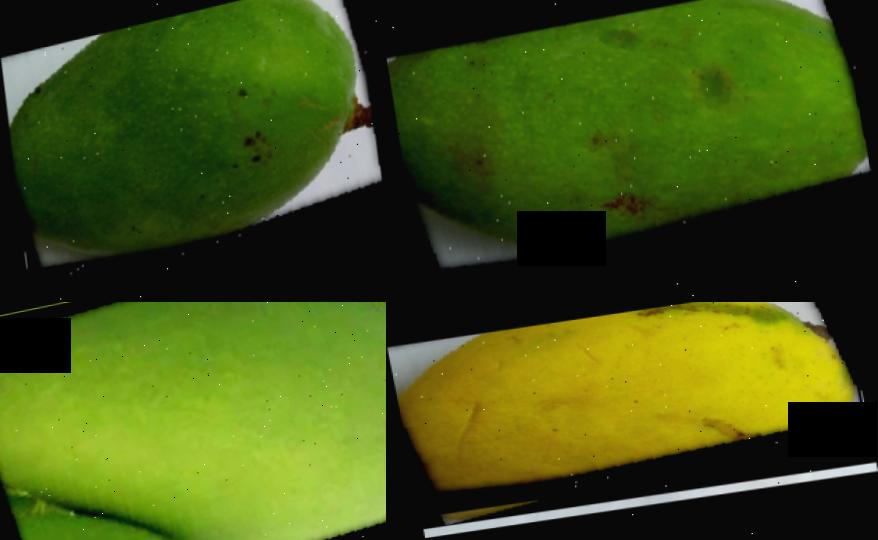Ripe: (386, 302, 871, 519)
Unripe: (386, 0, 878, 302), (0, 0, 386, 302), (0, 302, 386, 540)
